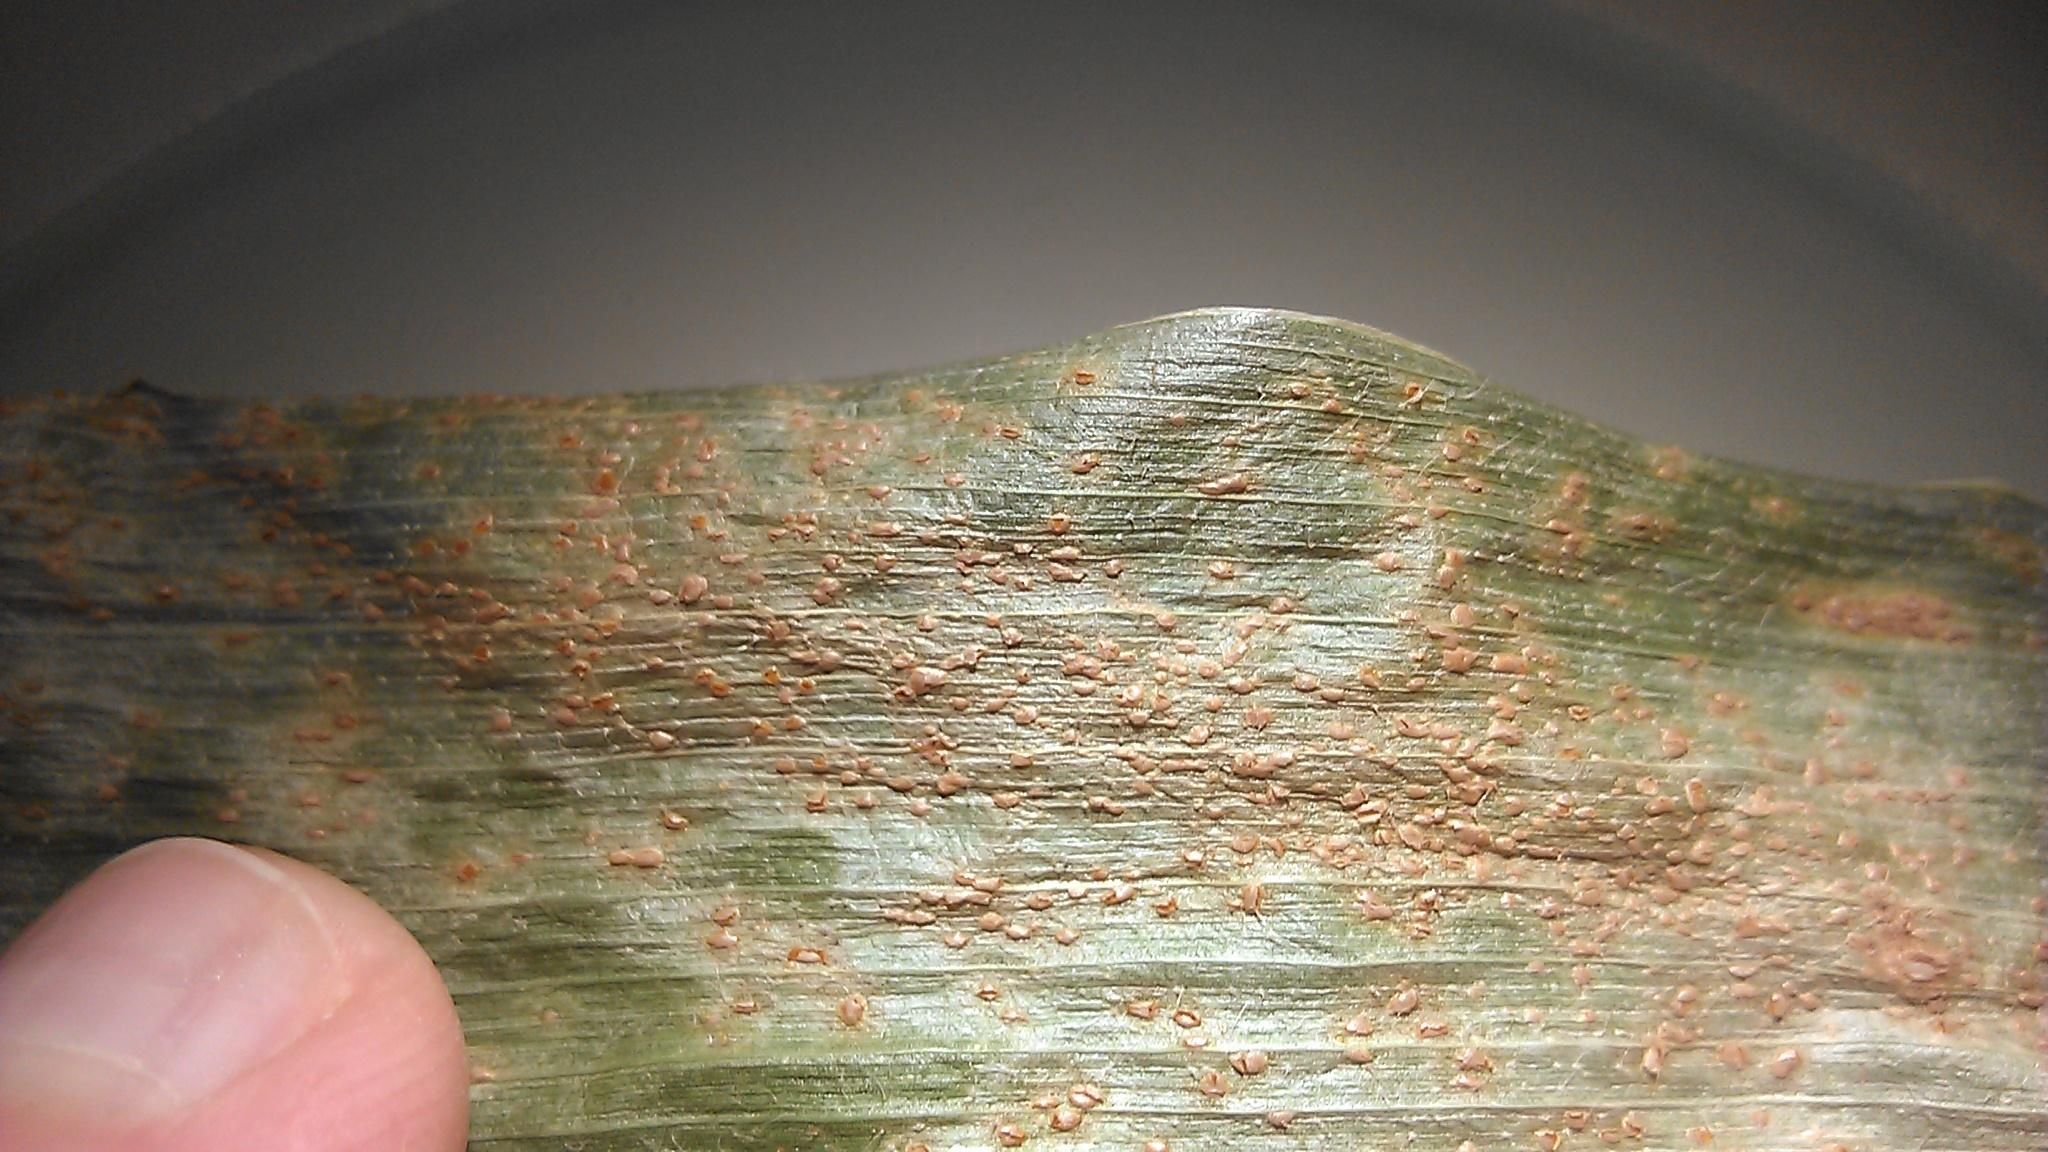Corn rust leaf: (397, 343, 2047, 1152)
